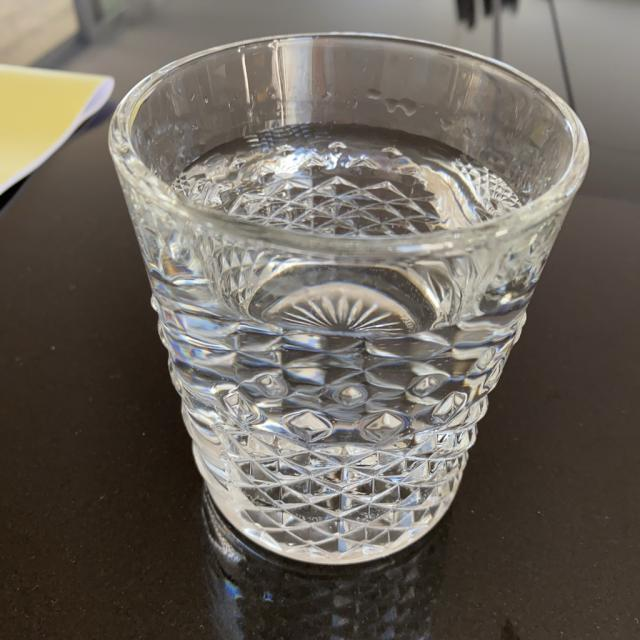water-mineral: (149, 136, 536, 555)
